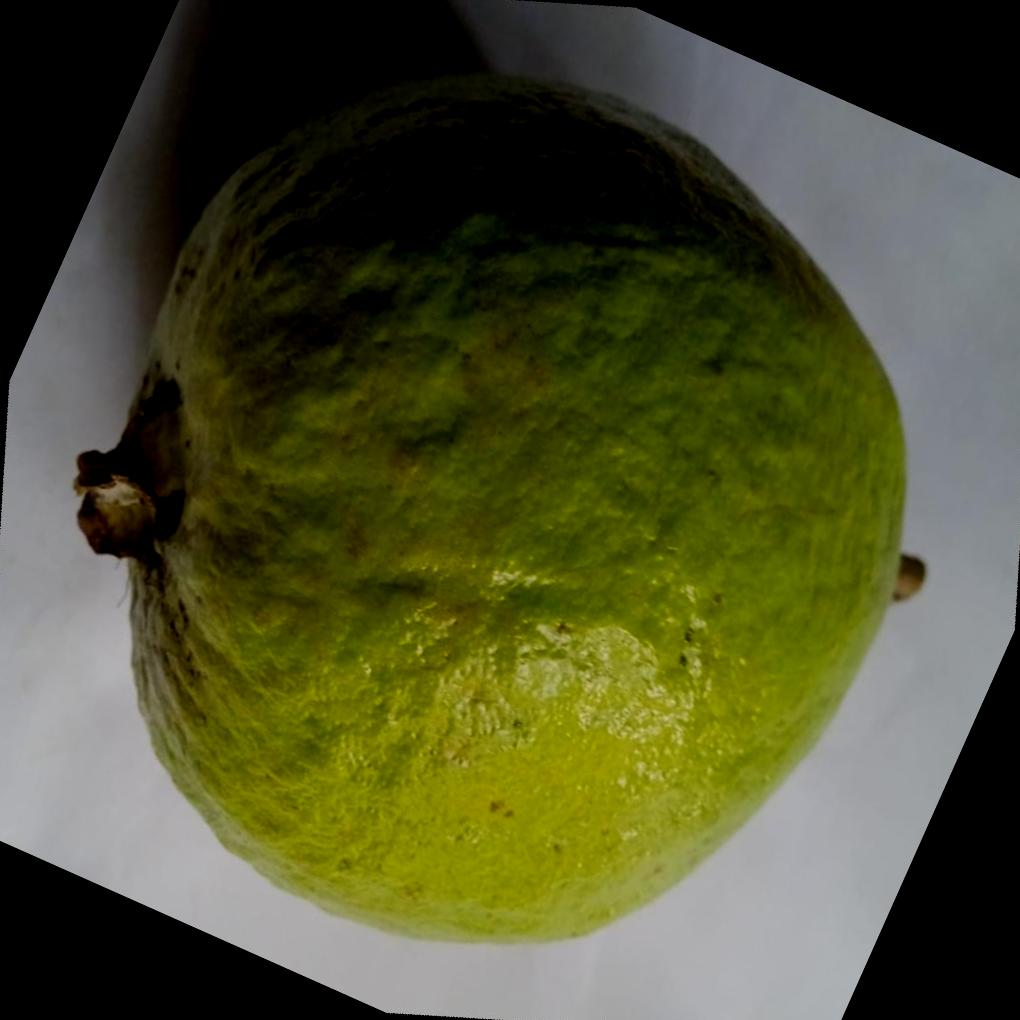FreshGuava: (71, 72, 909, 952)
